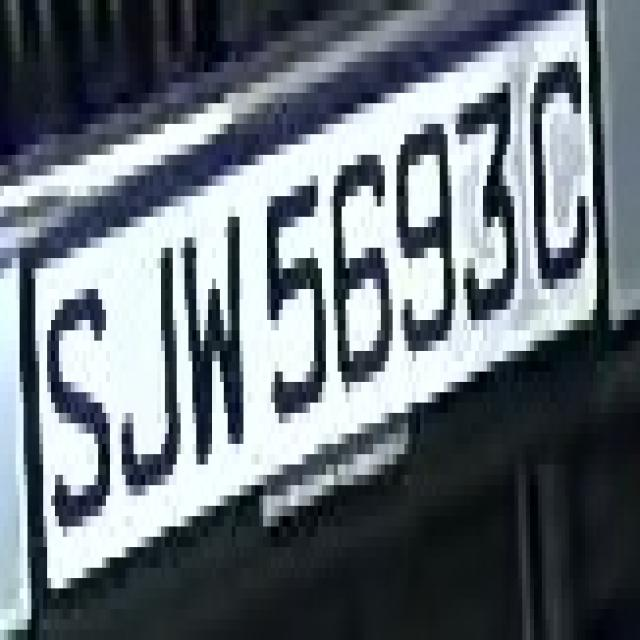3: (452, 51, 522, 372)
5: (259, 134, 330, 465)
6: (322, 103, 400, 423)
9: (385, 103, 459, 392)
C: (526, 0, 597, 341)
J: (114, 217, 184, 547)
S: (35, 268, 122, 568)
W: (165, 155, 259, 485)
